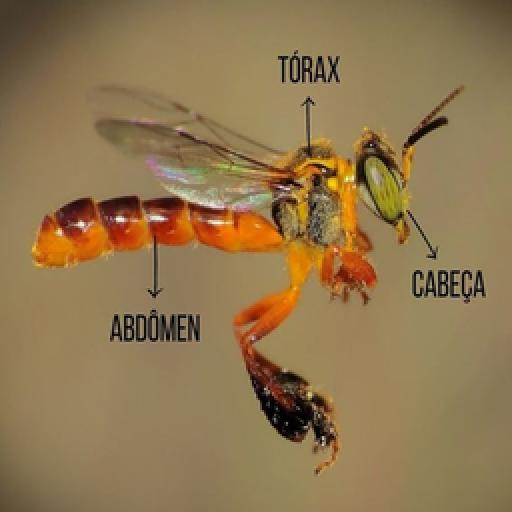insects: (26, 75, 468, 469)
